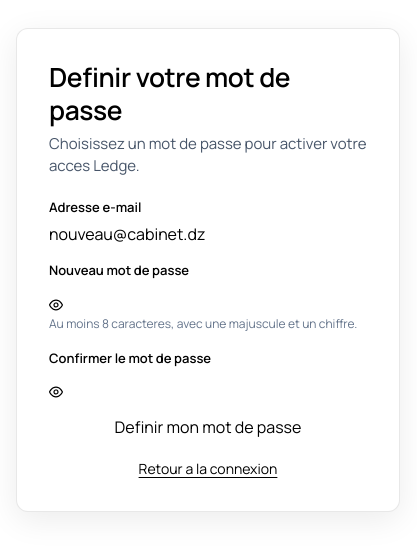
Test: DefinirMotDePassePage — lien valide › affiche l'erreur de jeton renvoyee par l'API (errors.token)
Type "Abcd1234!" into the password field with id "reset-password".
click(208, 298); type("Abcd1234!")  # box [49,287,367,309]
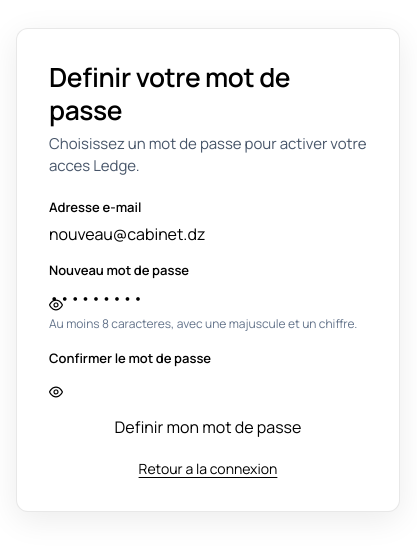
Type "Abcd1234!" into the password field with id "reset-password-confirm".
click(208, 385); type("Abcd1234!")  # box [49,374,367,396]
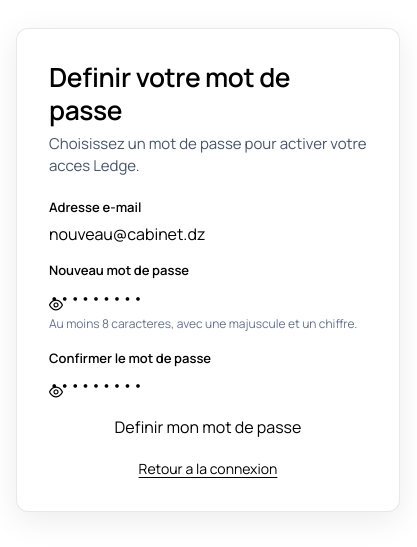
Submit the form, box [49,198,367,438]
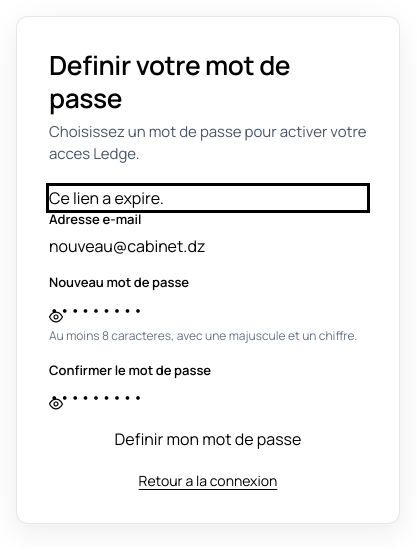
expect the form is shown: met, box [49,210,367,450]
expect the message "Ce lien a expire." is shown: met, box [49,187,164,209]
